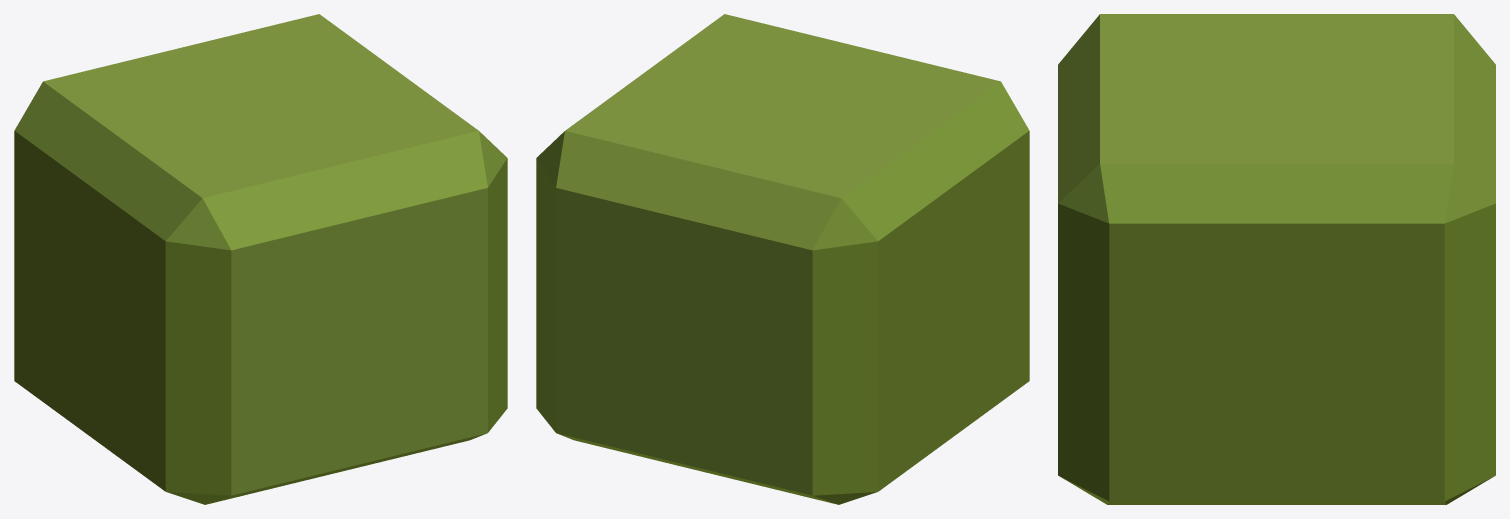
Rendered from ST_Env_Block_Grass_02.fbx.
3 renders of one model, left to right at view 1: azimuth 30°, elevation 25°; view 2: azimuth 150°, elevation 25°; view 3: azimuth 270°, elevation 25°, orthographic. The views are drawn at different scales.
Visible parts, largest first — view 1: ST_Env_Block_Grass_02; view 2: ST_Env_Block_Grass_02; view 3: ST_Env_Block_Grass_02.
Boxes of the visible parts, bbox=[...] form: ST_Env_Block_Grass_02: bbox=[14, 14, 507, 504]; ST_Env_Block_Grass_02: bbox=[536, 14, 1029, 504]; ST_Env_Block_Grass_02: bbox=[1058, 14, 1495, 504].
Bounding box in the file's own units: 2.49 × 2.16 × 2.49.
